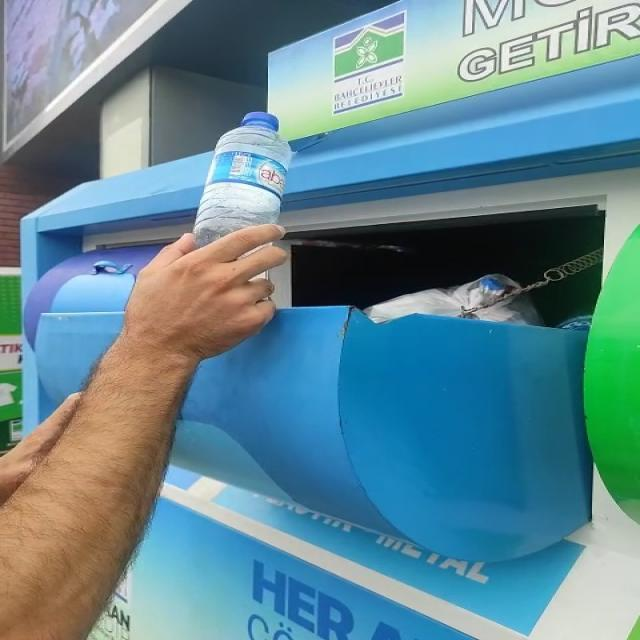Plastic: (193, 111, 291, 244)
